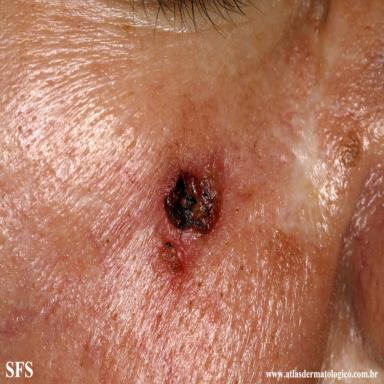basal-cell-carcinoma: (153, 147, 229, 283)
